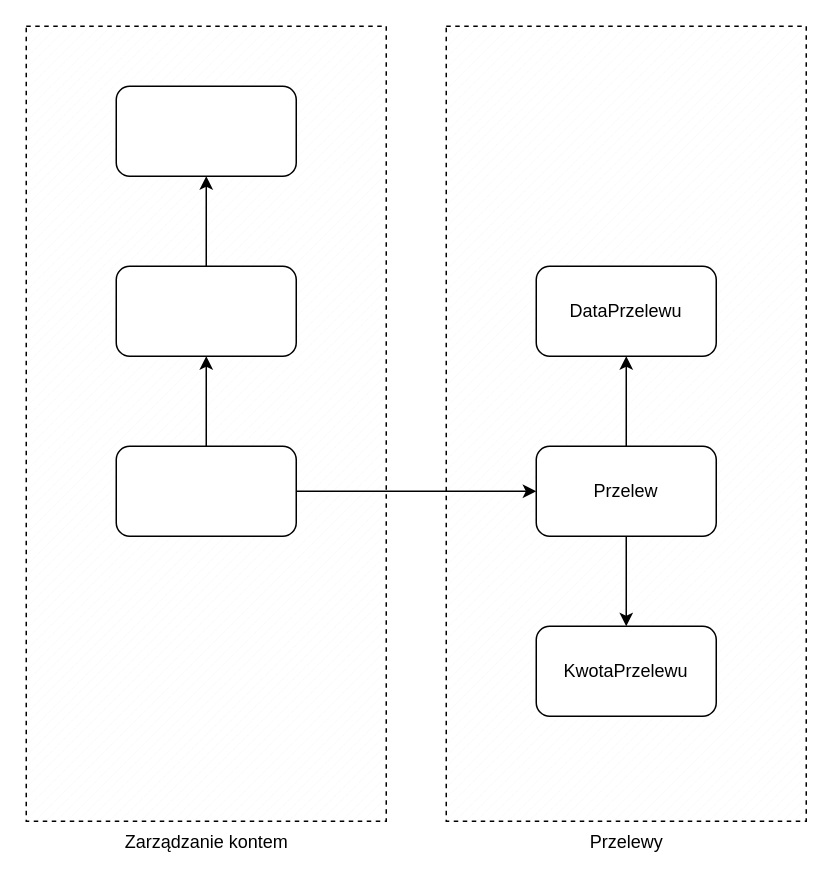
The diagram is 833 pixels wide and 879 high, and some of its shapes have lost their labels. The centre of each missing label's shape, as x and y in pixels:
"Adres" belongs at [205,130].
"Klient" belongs at [205,310].
"KontoBankowe" belongs at [205,490].
